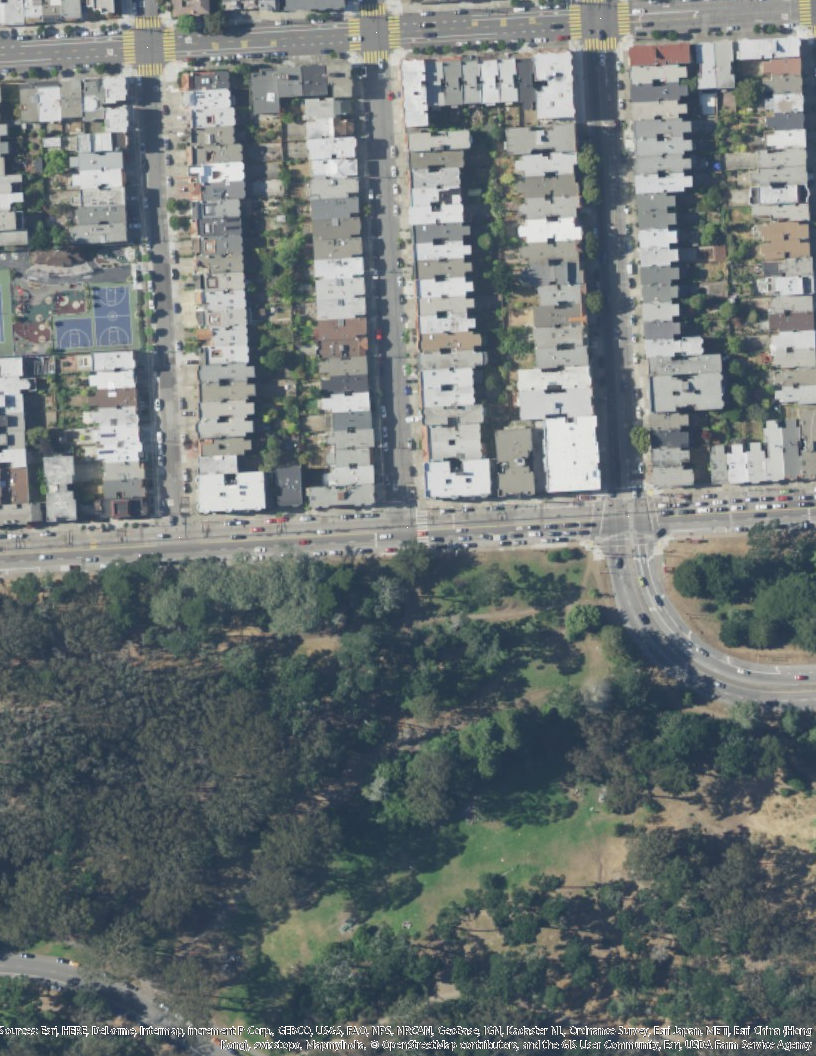zebracross: (121, 30, 137, 64), (161, 30, 177, 63), (415, 508, 429, 545), (347, 17, 362, 51), (616, 4, 632, 34), (568, 3, 582, 37), (388, 15, 401, 49), (361, 2, 388, 17), (585, 37, 616, 50), (135, 14, 160, 29), (798, 1, 813, 26), (138, 64, 163, 77), (364, 51, 389, 62)
